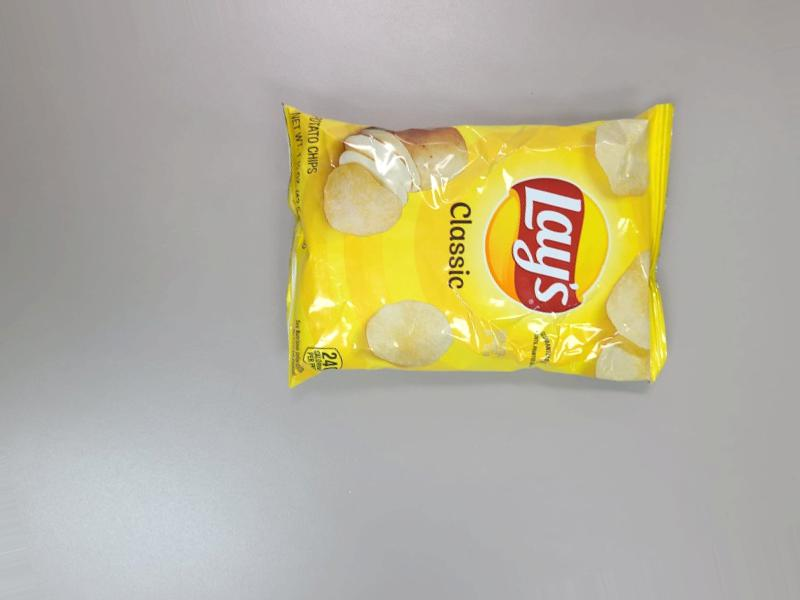lays: (287, 120, 682, 407)
